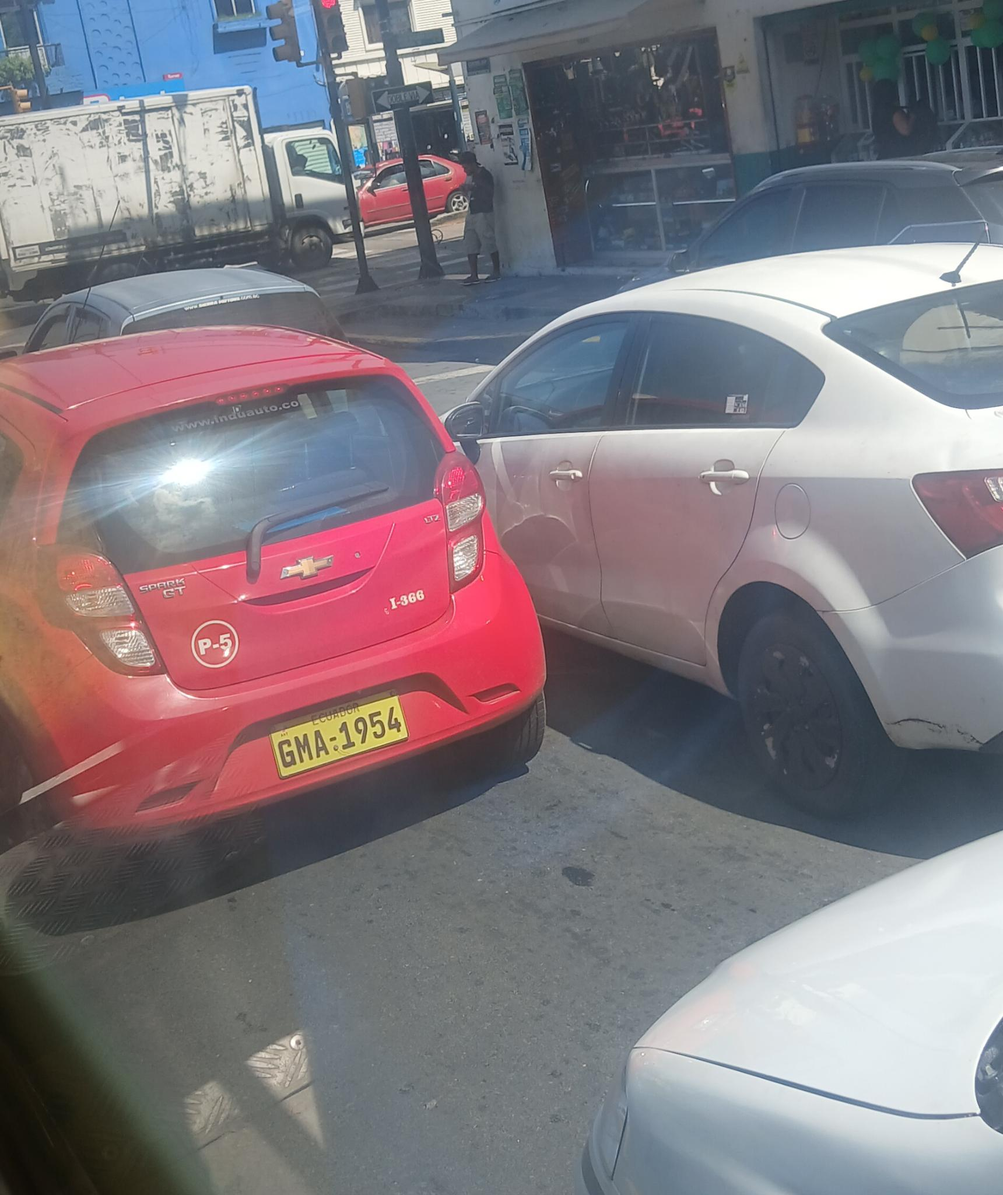license_plate: (268, 695, 413, 781)
